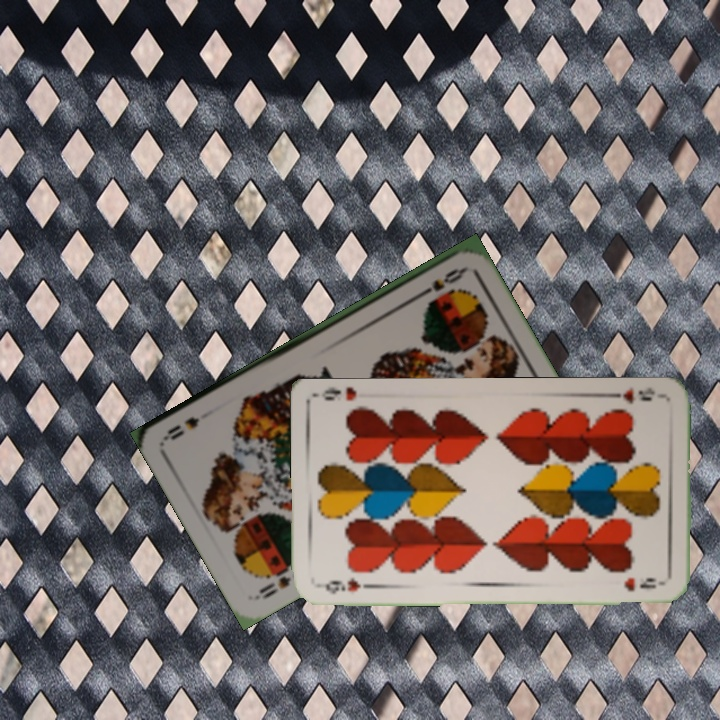H9: (605, 384, 664, 407), (316, 573, 363, 596)
SO: (414, 264, 468, 301), (252, 564, 294, 602)
